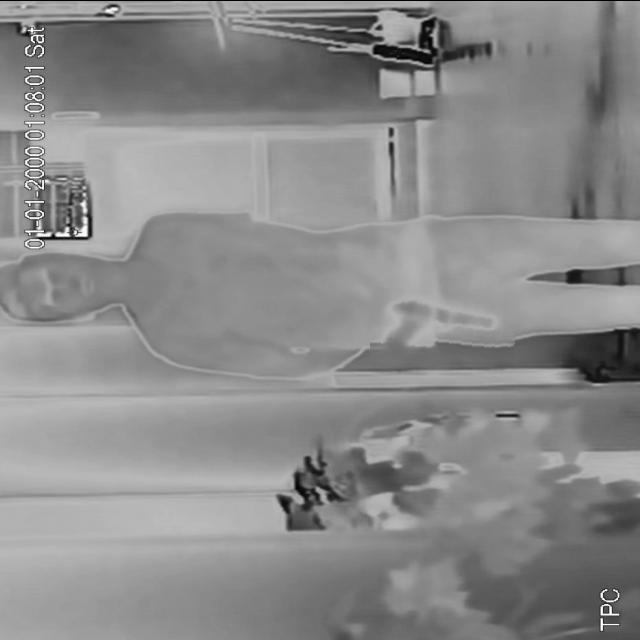Weapon: (372, 289, 518, 357)
